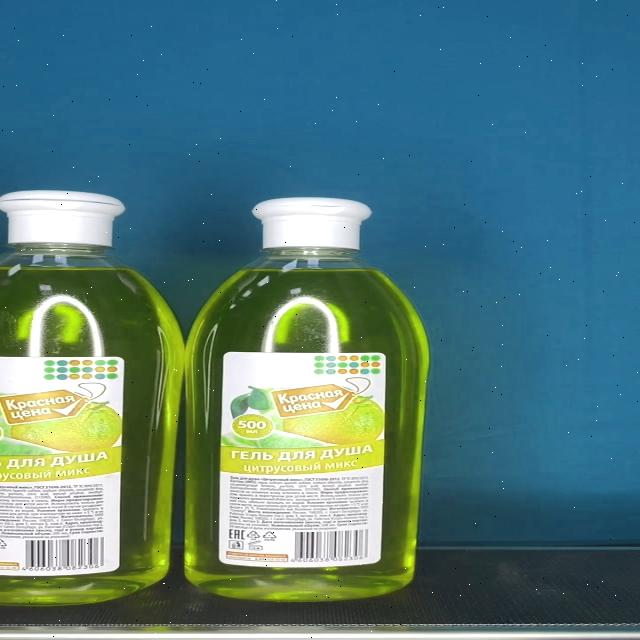Bottle: (184, 197, 430, 602), (0, 190, 184, 605)
Cap: (0, 190, 125, 246), (252, 198, 372, 250)
